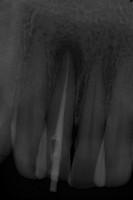Furcation Involvement: (48, 38, 85, 83)
